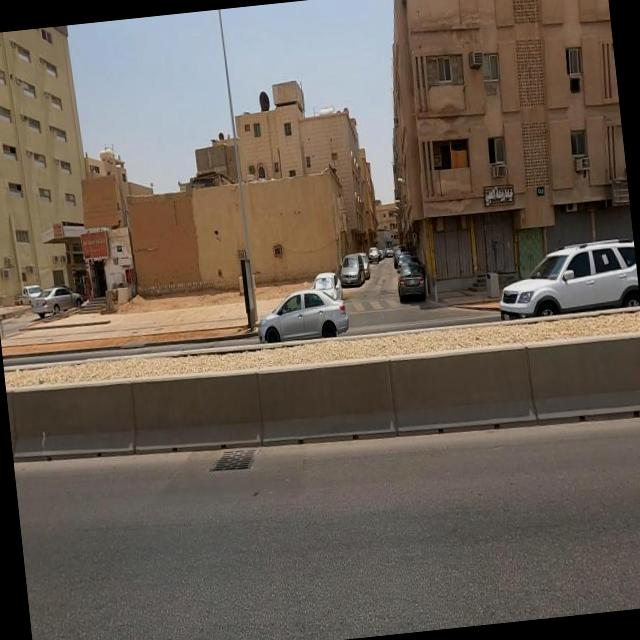debris: (57, 194, 133, 282)
